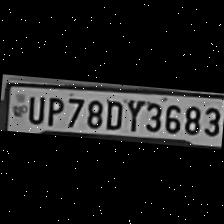3: (200, 103, 222, 138), (142, 98, 162, 132)
6: (162, 100, 182, 134)
7: (62, 94, 84, 128)
8: (82, 96, 106, 129), (180, 102, 201, 136)
D: (102, 97, 125, 131)
P: (42, 93, 64, 126)
U: (23, 92, 45, 124)
Y: (122, 97, 144, 132)
